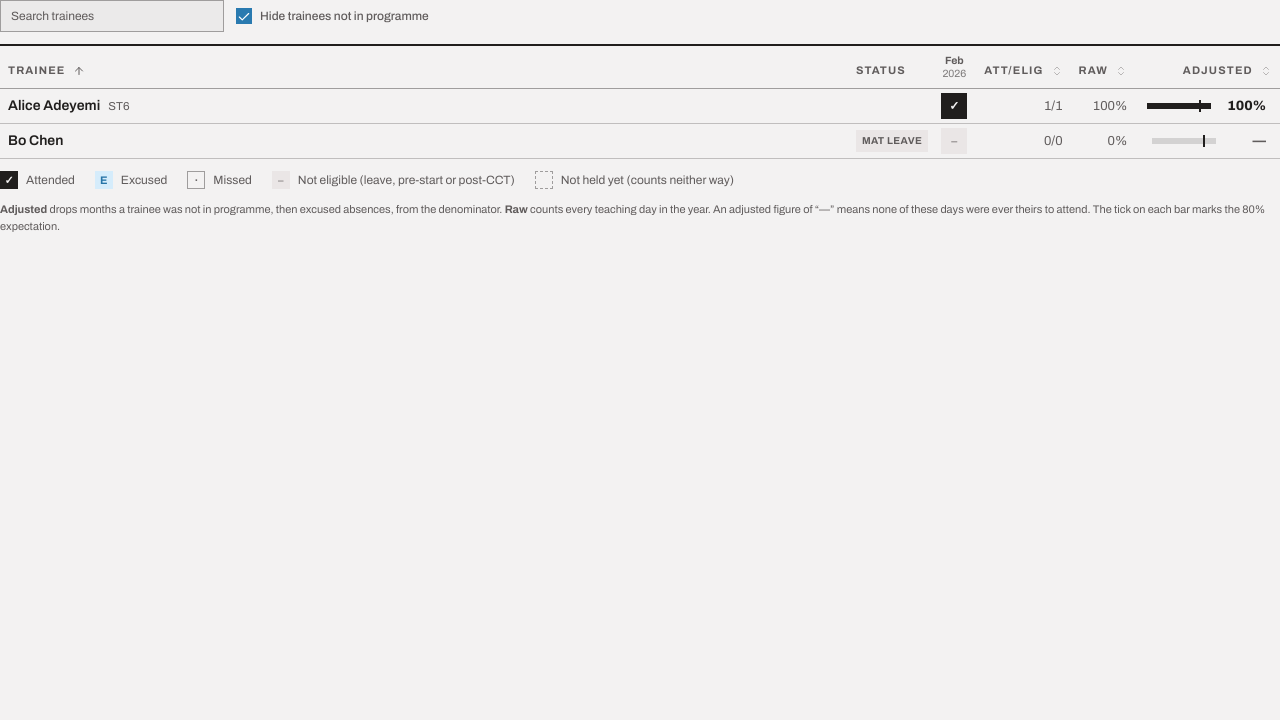
Test: AttendanceGrid cells › changes the mark from the popover's own button, and closes
The width and height of the screenshot is (1280, 720).
Click the button named "Alice Adeyemi": [954, 106] box [941, 93, 967, 119]
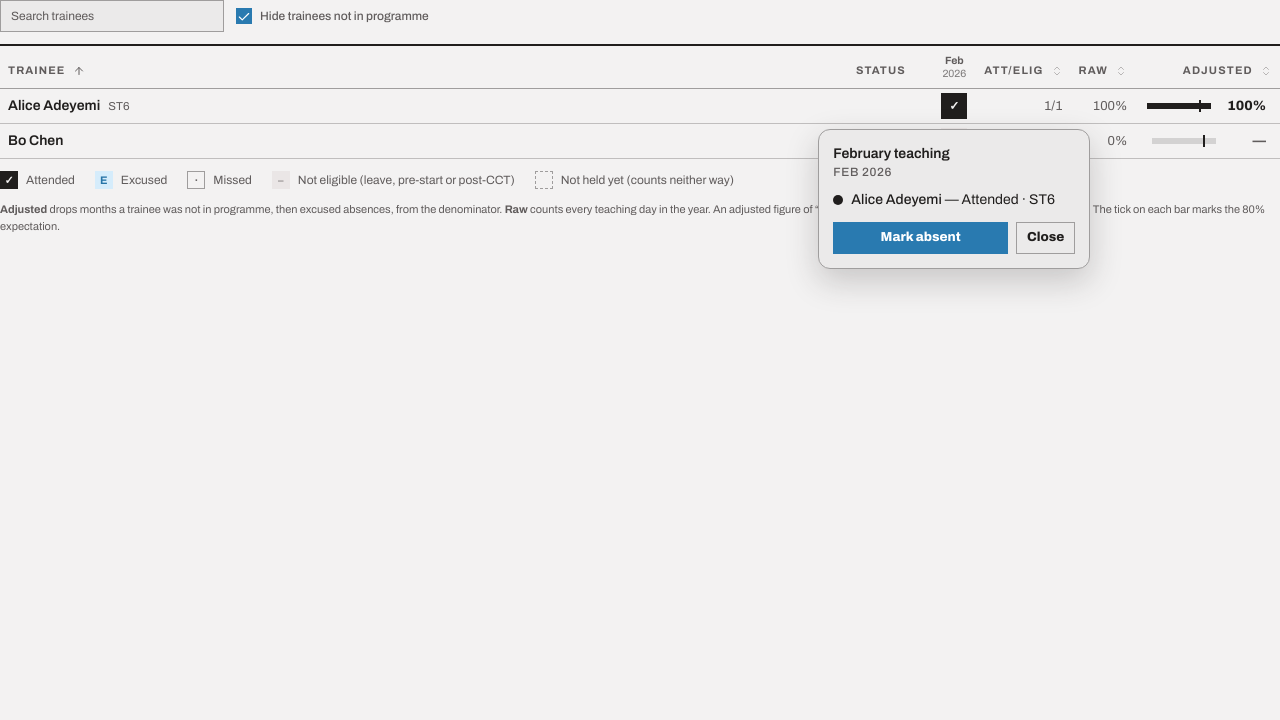
Click the button "Mark absent": [921, 238] box [833, 222, 1008, 254]
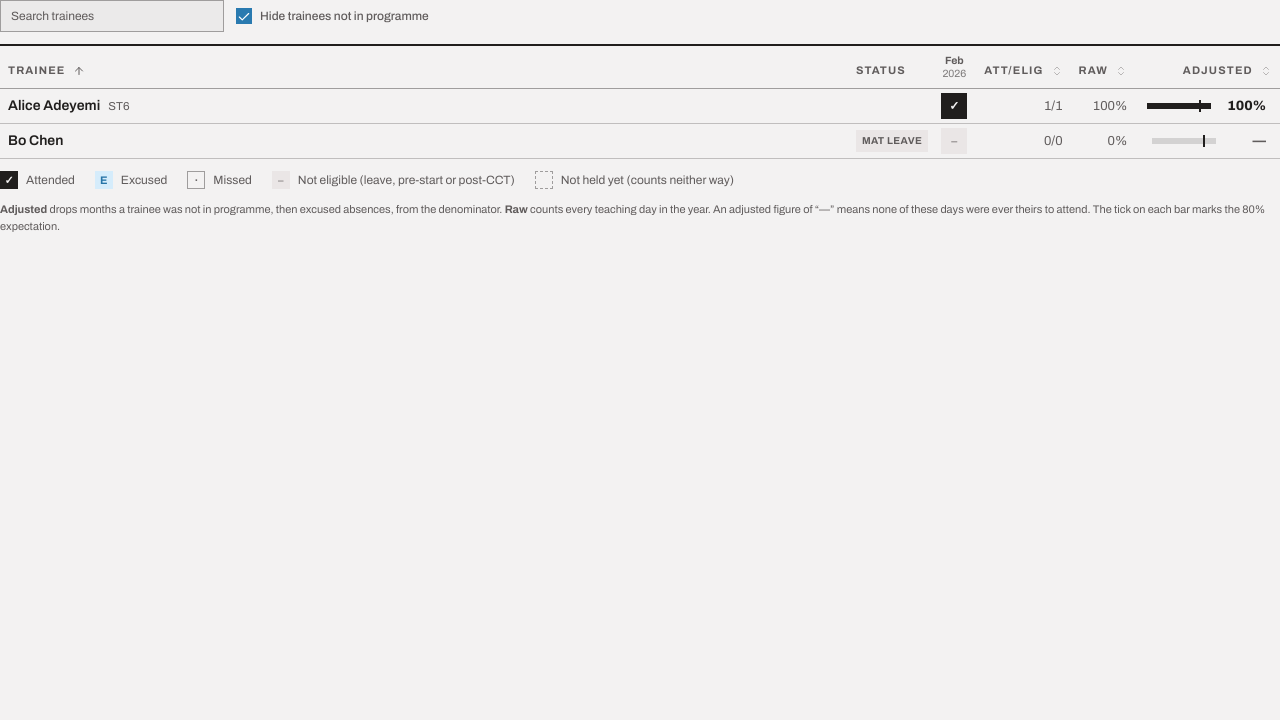
Now the button "Mark absent" is gone
